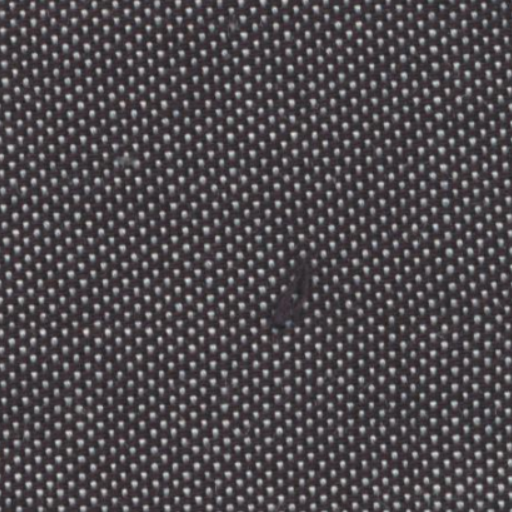DuanSha: (261, 246, 320, 342)
